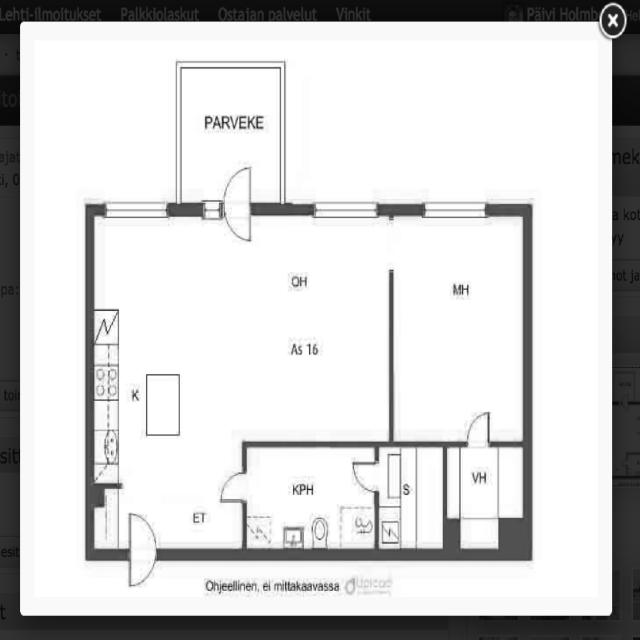door: (122, 506, 160, 592), (221, 165, 257, 248), (214, 466, 251, 512), (348, 457, 382, 497), (464, 408, 494, 451)
window: (96, 189, 175, 229), (414, 192, 496, 226), (306, 193, 388, 226), (200, 196, 222, 222)
zone: (85, 210, 388, 442), (389, 208, 527, 444), (87, 443, 245, 556), (244, 446, 376, 554), (446, 442, 528, 556), (375, 446, 447, 554)
